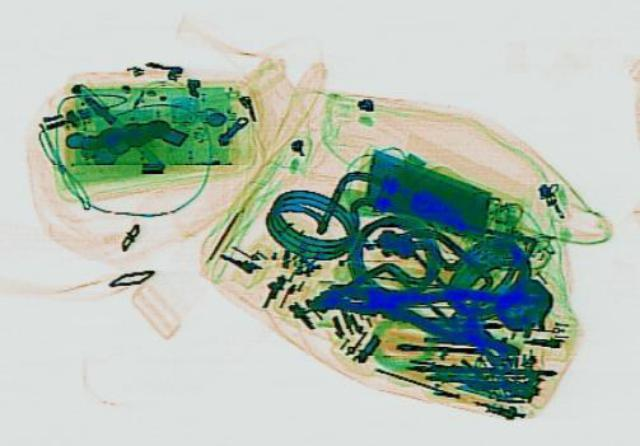Pliers: (311, 259, 541, 354)
